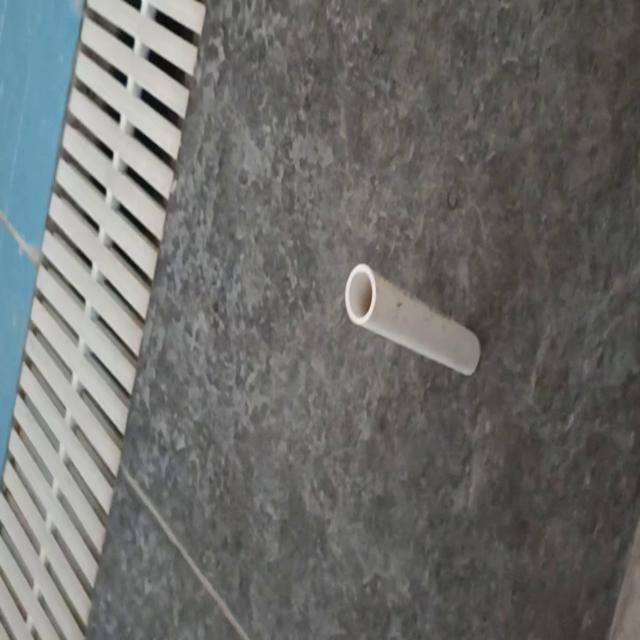Cube: (344, 260, 481, 377)
